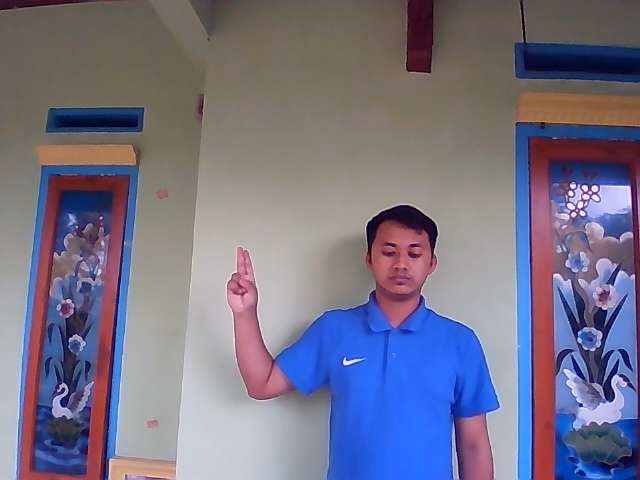U: (225, 246, 258, 312)
